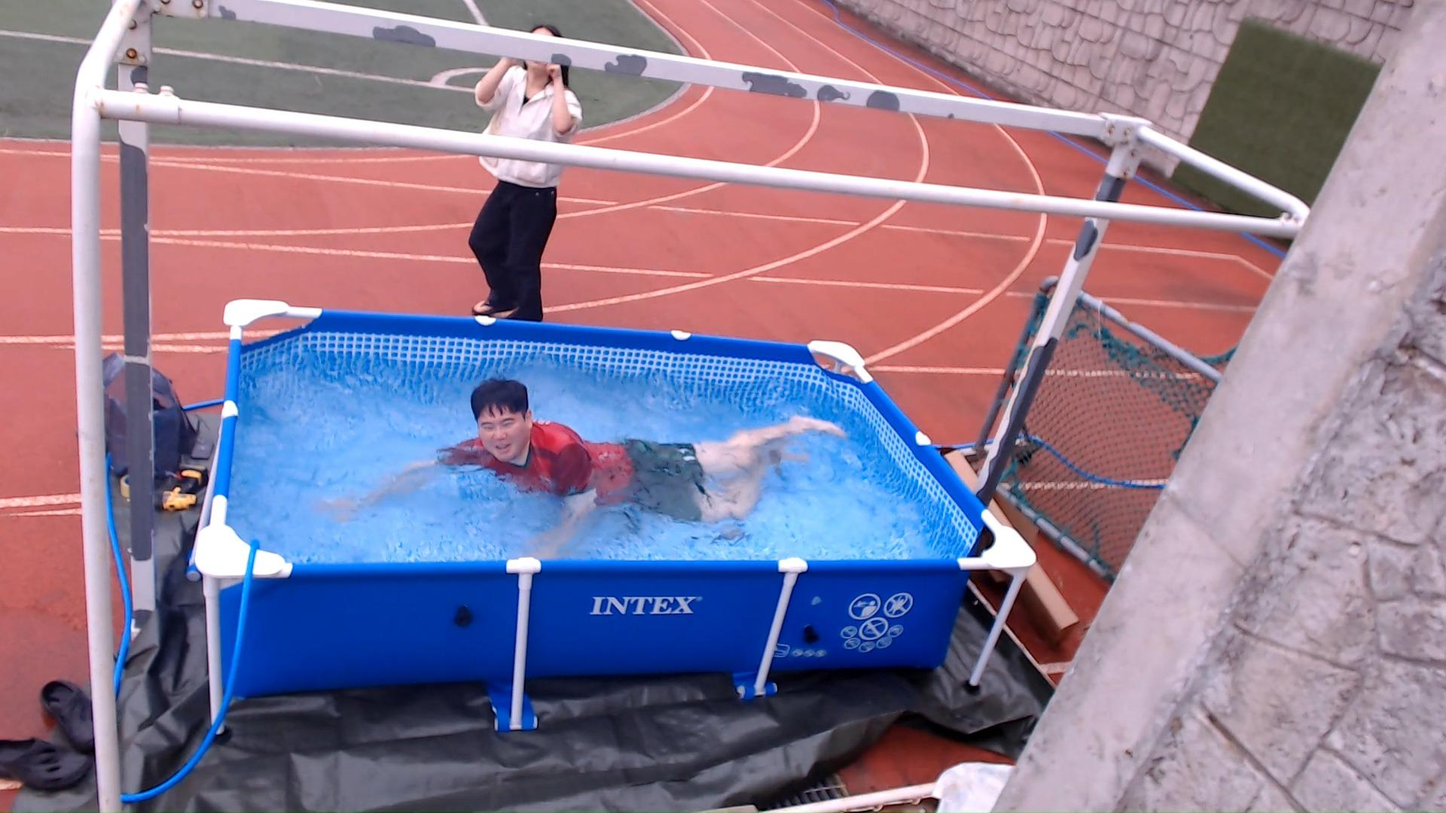Swimming: (302, 374, 870, 560)
